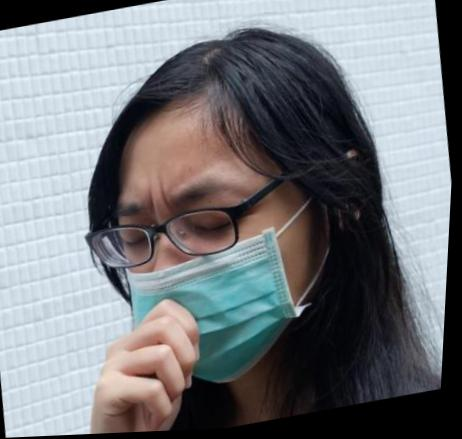WRONG: (103, 144, 327, 404)
